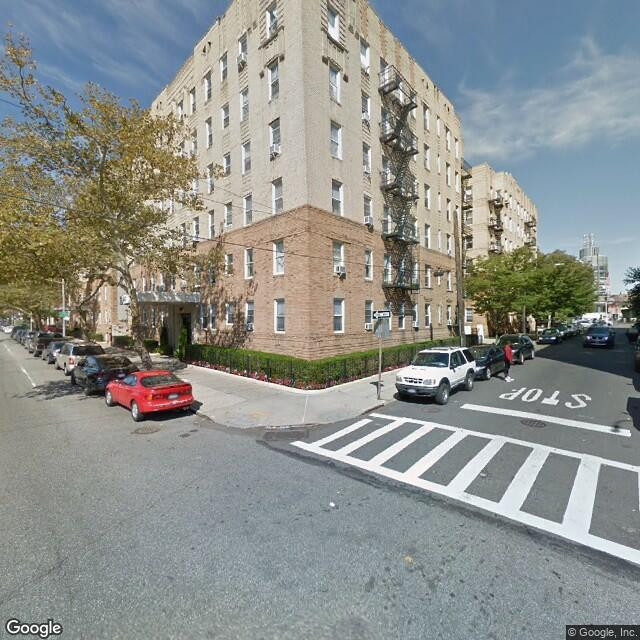litter: (327, 501, 338, 508), (334, 490, 340, 496)
